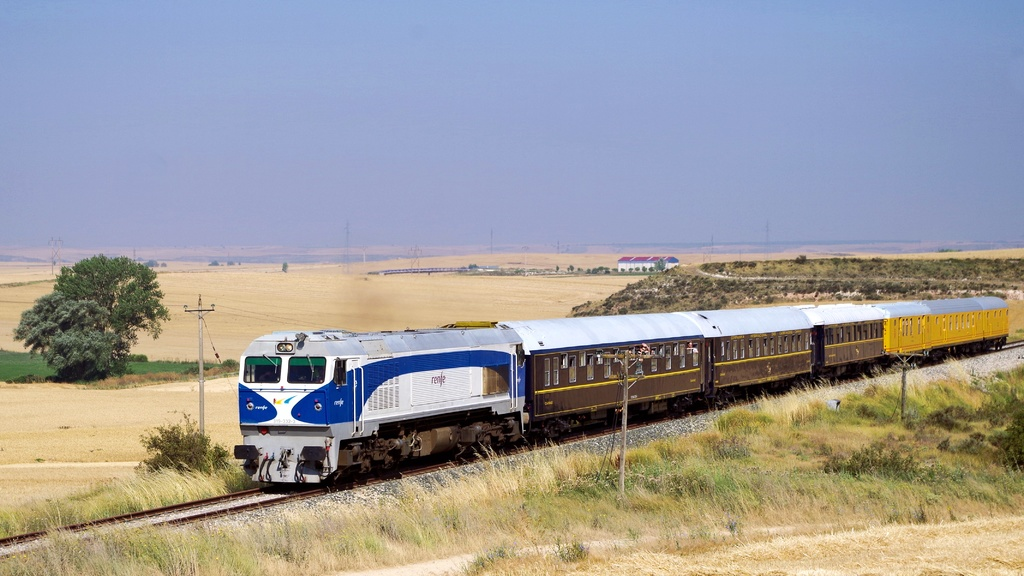Tree: (50, 255, 170, 377), (17, 292, 112, 386), (143, 410, 236, 483)
